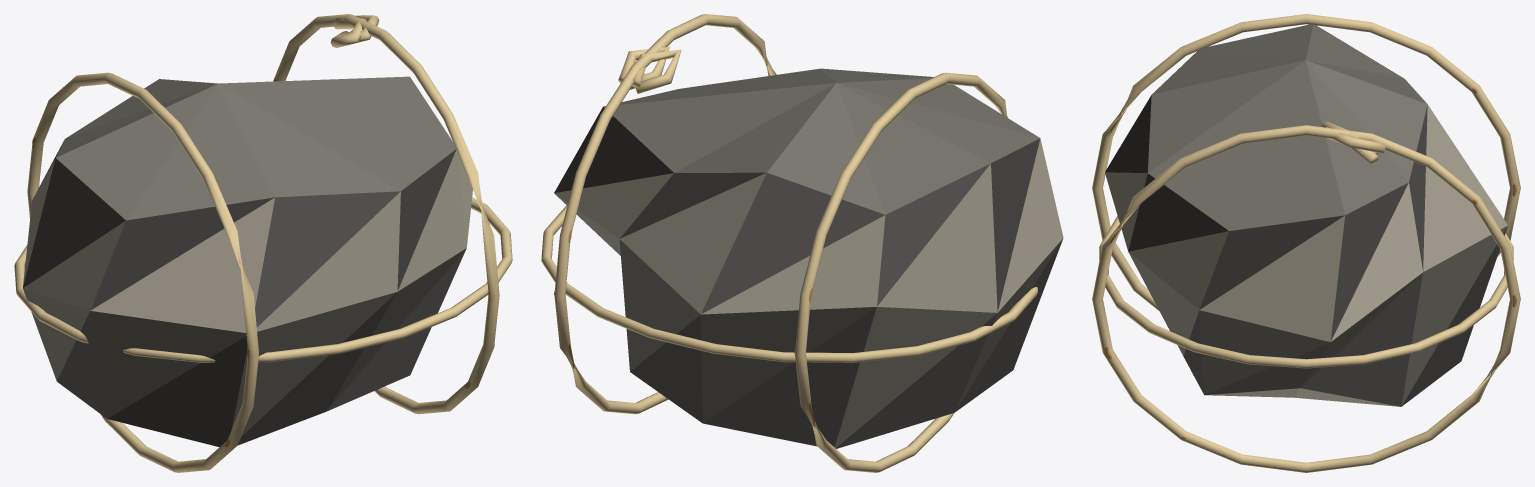
The model's file is HeavyOre.fbx.
3 renders of one model, left to right at view 1: azimuth 30°, elevation 25°; view 2: azimuth 150°, elevation 25°; view 3: azimuth 270°, elevation 25°, orthographic. The views are drawn at different scales.
Visible parts, largest first — view 1: HeavyOre_Mesh; view 2: HeavyOre_Mesh; view 3: HeavyOre_Mesh.
Part boxes in pixels (x1,y1,x2,y2): HeavyOre_Mesh: [14, 14, 512, 472]; HeavyOre_Mesh: [541, 14, 1063, 472]; HeavyOre_Mesh: [1092, 14, 1520, 472].
Bounding box in the file's own units: 1.09 × 0.846 × 0.946.
